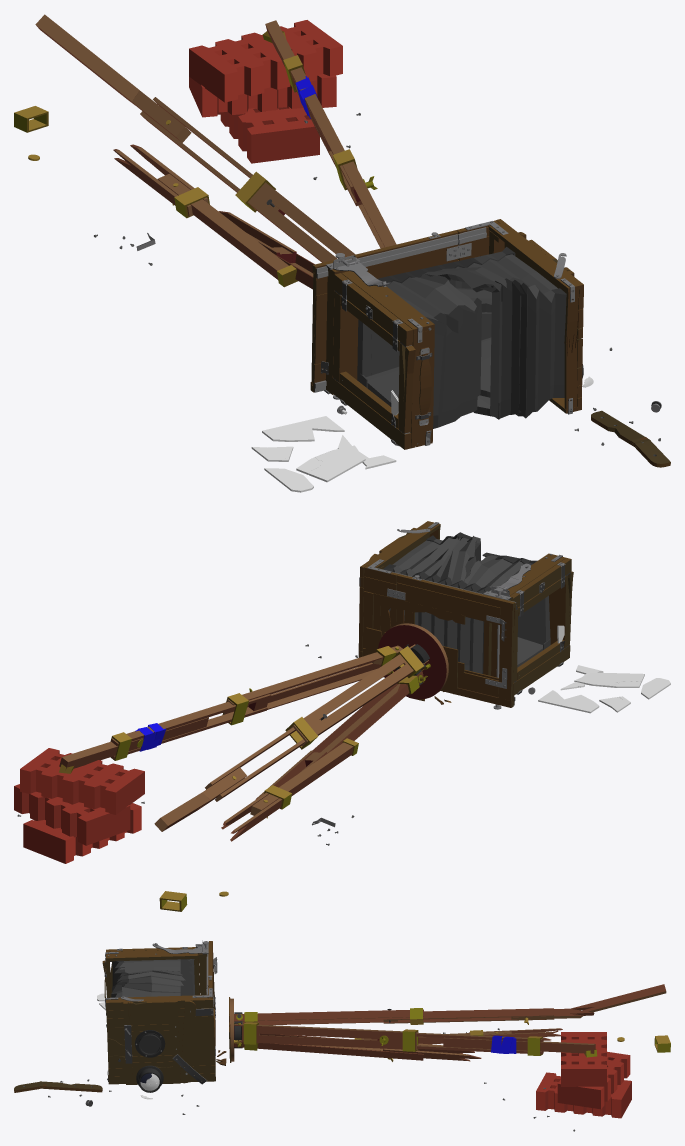
The model's file is camera_broken.fbx.
3 views of the same model, one above another, from view 1: azimuth 30°, elevation 25°; view 2: azimuth 150°, elevation 25°; view 3: azimuth 270°, elevation 25° (orthographic). The views are drawn at different scales.
Parts seen in each view (by area): view 1: Cube.336, Cube.331, Cube.326, Cube.335, Cube.289, Cube.333, Cube.332, Cube.302, Cube.382, Cube.297, Cube.369, Cube.258 (+19 smaller); view 2: Cube.331, Cube.289, Cube.332, Cube.374, Cube.382, Cube.335, Cube.323, Cube.333, Cylinder.468, Cube.367, Cube.297, Cube.336 (+18 smaller); view 3: Cube.374, Cube.294, Cube.331, Cube.382, Cube.333, Cube.332, Cube.383, Cube.367, Cube.310, Cube.335, Cube.309, Cube.376 (+22 smaller).
Part boxes in pixels (x1,y1,x2,y2): Cube.336: (416,247,566,419); Cube.331: (189,20,342,102); Cube.326: (358,270,481,428); Cube.335: (424,254,557,417); Cube.289: (357,274,476,406); Cube.333: (218,106,319,163); Cube.332: (189,74,336,117); Cube.302: (332,273,412,449); Cube.382: (248,182,355,262); Cube.297: (310,230,458,392); Cube.369: (157,173,288,279); Cube.258: (346,310,434,443); Cube.331: (20,748,144,814); Cube.289: (464,555,549,673); Cube.332: (14,784,130,845); Cube.374: (223,645,402,714); Cube.382: (288,644,428,746); Cube.335: (392,536,480,584); Cube.323: (397,582,500,697); Cube.333: (23,803,141,863); Cylinder.468: (378,623,448,699); Cube.367: (312,671,423,753); Cube.297: (396,574,515,707); Cube.336: (383,532,476,649); Cube.374: (234,1023,418,1049); Cube.294: (106,1016,215,1068); Cube.331: (561,1032,606,1086); Cube.382: (234,1009,423,1025); Cube.333: (536,1072,631,1118); Cube.332: (557,1051,630,1109); Cube.383: (383,1008,554,1023); Cube.367: (234,1033,423,1060); Cube.310: (130,1001,173,1084); Cube.335: (118,971,185,997); Cube.309: (35,1000,195,1092); Cube.376: (443,1037,595,1053).
Bounding box in the file's own units: 737 × 237 × 1495.
